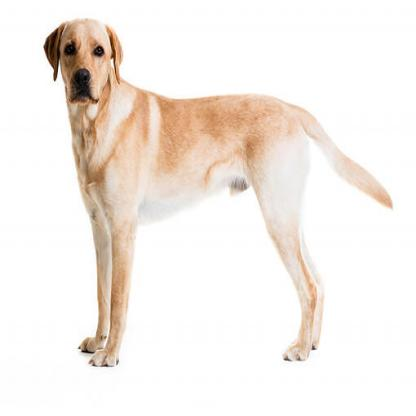Labarador Retriever: (40, 20, 393, 366)
